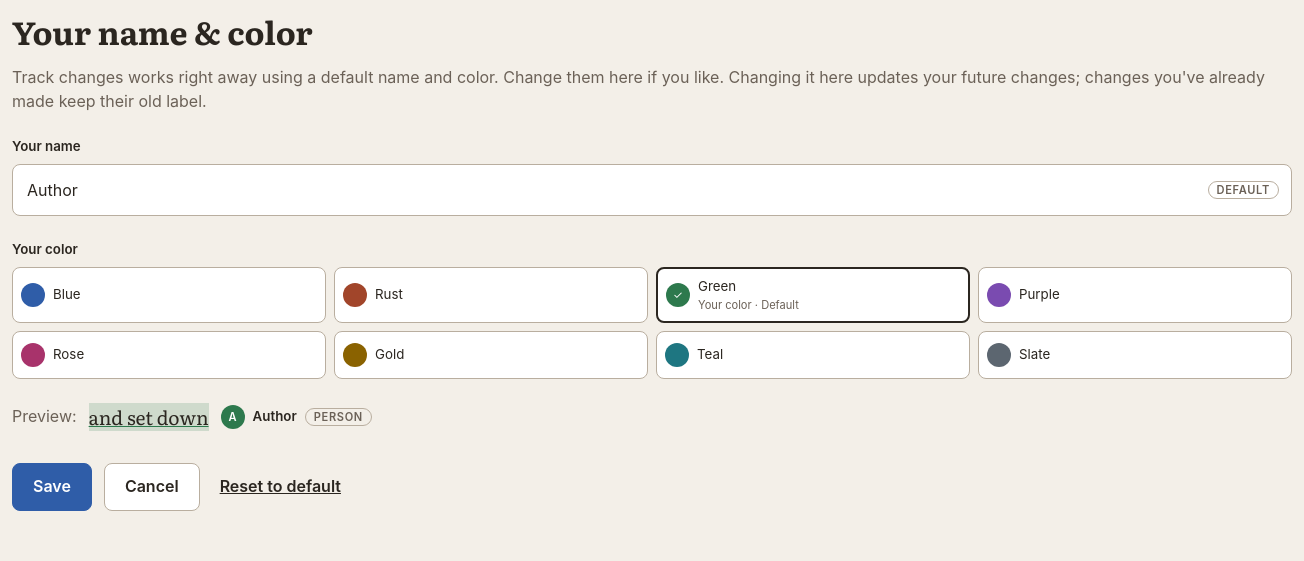
Test: Your name & color (#99) › shows a clear error when the name matches an agent (#45)
Replace the text in the field with test id "settings-name" with "Grok Bot". click: (610, 190)
box: [25,165,1196,215]
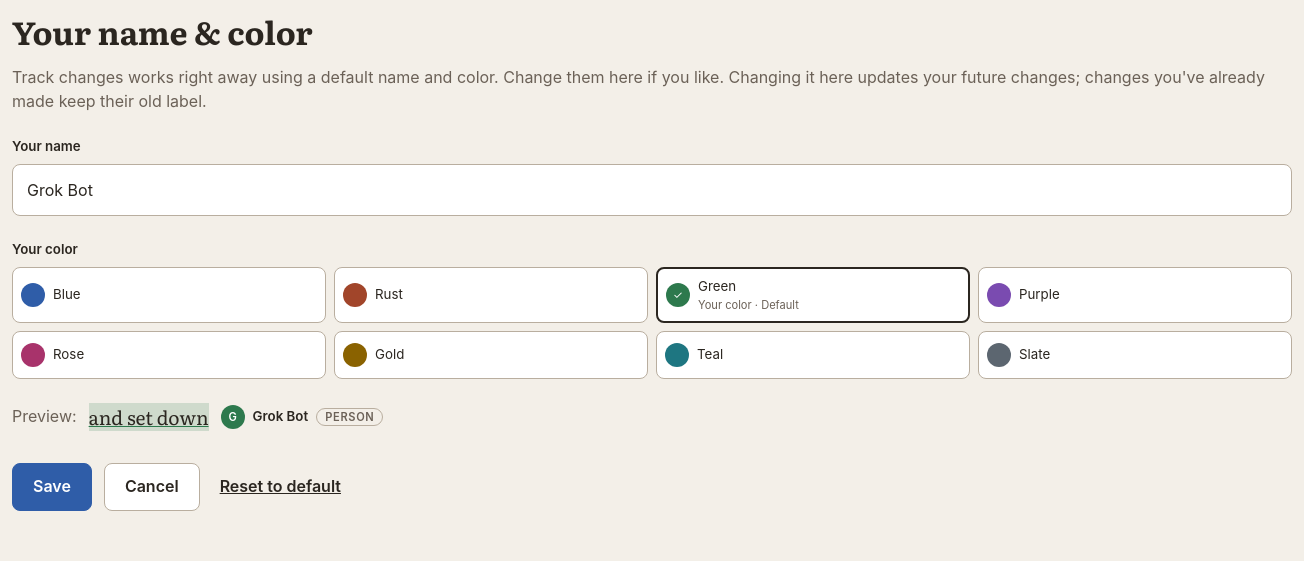
Click the button with test id "settings-save". click: (52, 487)
box: [12,463,92,511]
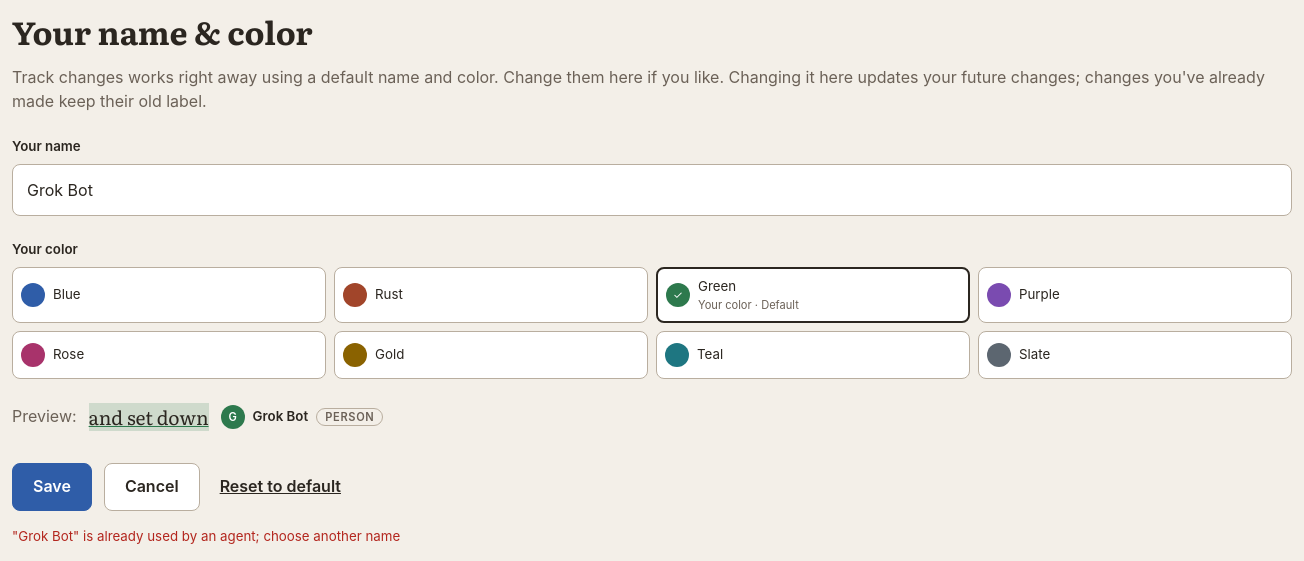
Expected: the message with test id "settings-name-error" shows "already used by an agent", [12,528,400,544]
